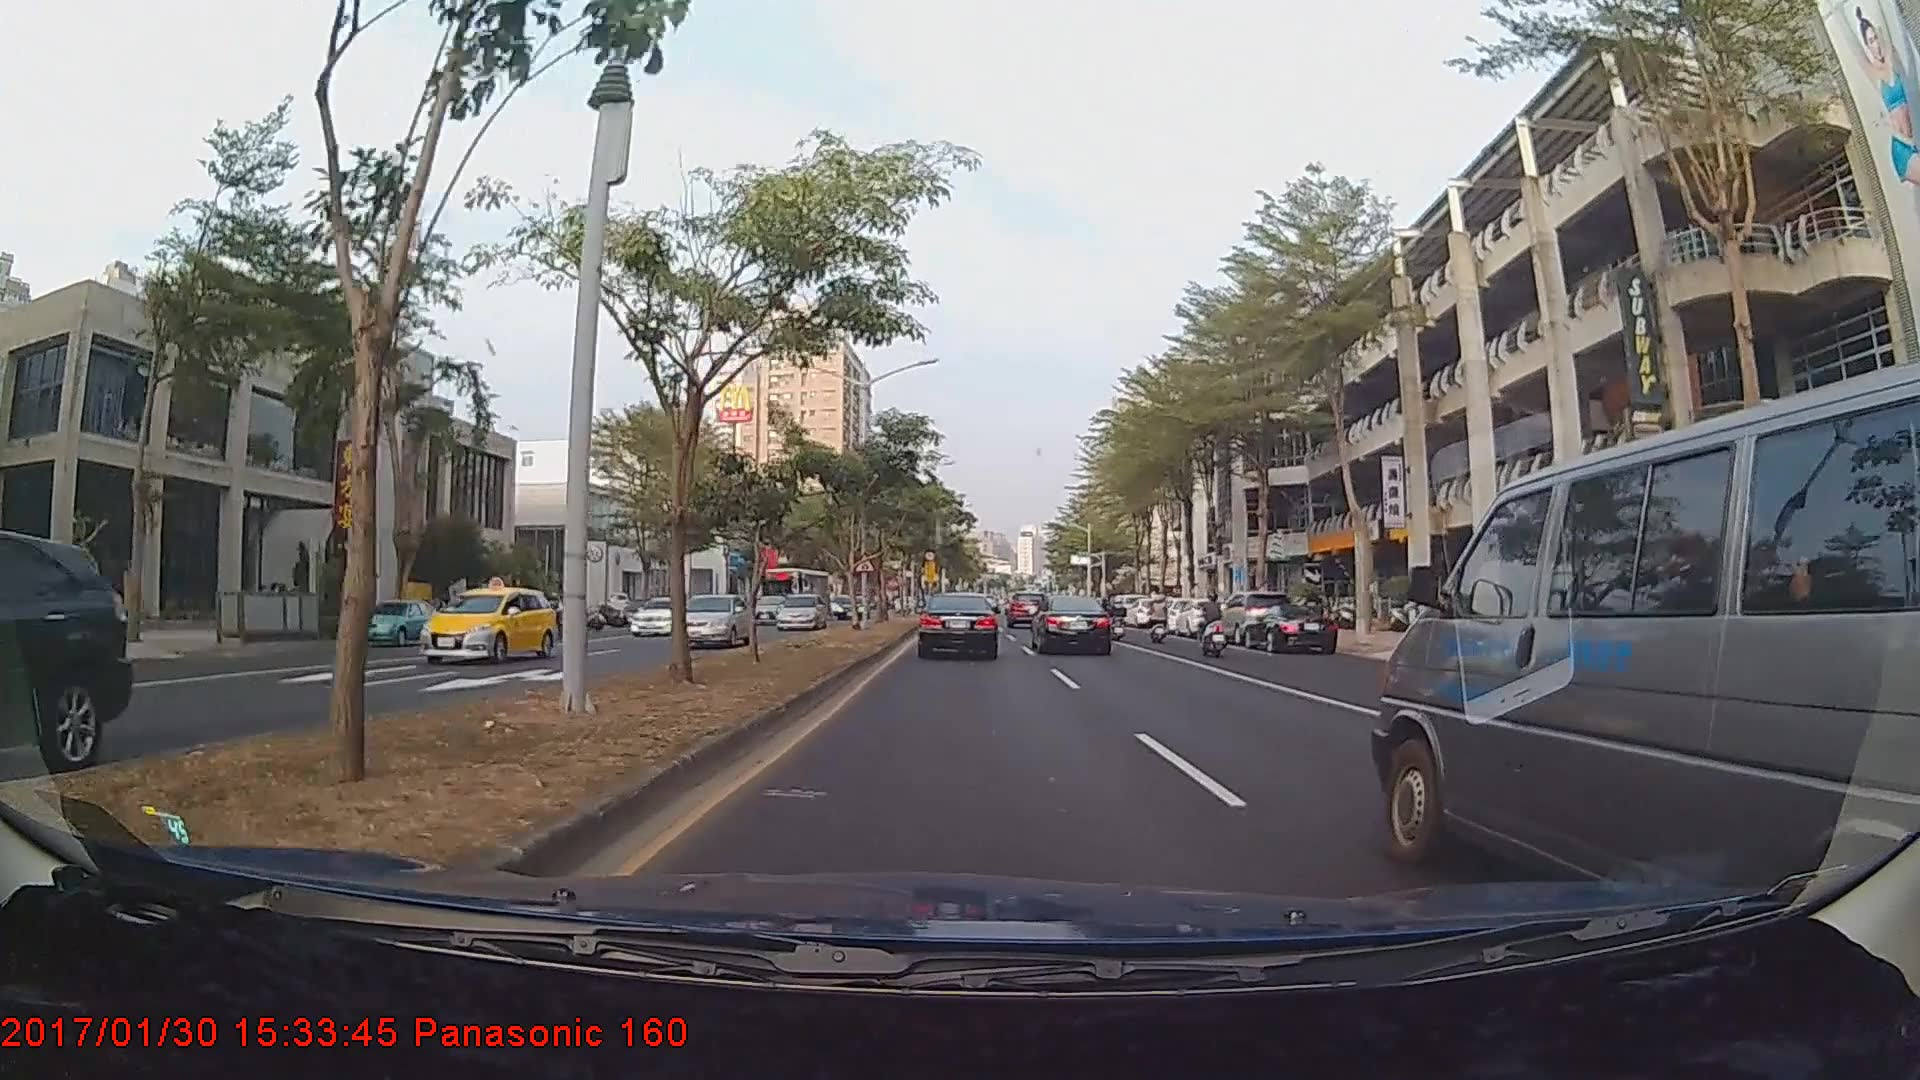rider: (1193, 592, 1238, 662), (1144, 588, 1174, 646)
vehicle: (1372, 401, 1905, 911), (0, 522, 133, 816), (415, 583, 557, 667), (918, 592, 1000, 661), (1031, 595, 1114, 656), (756, 566, 833, 626), (1244, 604, 1337, 653), (346, 597, 440, 645), (1214, 590, 1294, 646), (676, 593, 752, 647), (629, 594, 696, 637), (1174, 597, 1237, 637), (775, 591, 826, 631), (1006, 591, 1047, 628), (832, 594, 866, 620)
